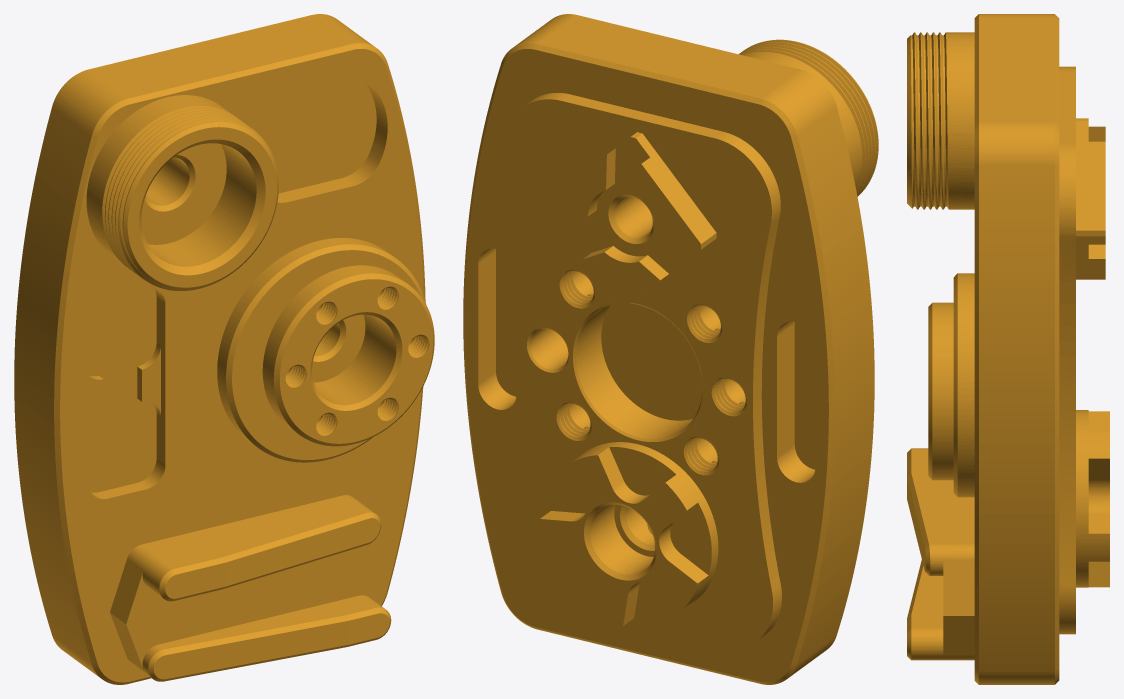
3 renders of one model, left to right at view 1: azimuth 30°, elevation 25°; view 2: azimuth 150°, elevation 25°; view 3: azimuth 270°, elevation 25°, orthographic. The views are drawn at different scales.
Bounding box in the file's own units: 97 × 146 × 48.
